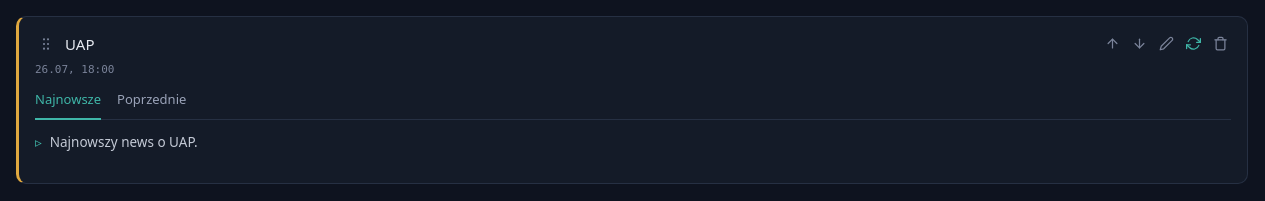
Scenario: BoxCard › pokazuje podpowiedź, gdy brak danych w zakładce
The width and height of the screenshot is (1265, 201).
Click the tab "Poprzednie" at (152, 105), box [117,90,186,120]
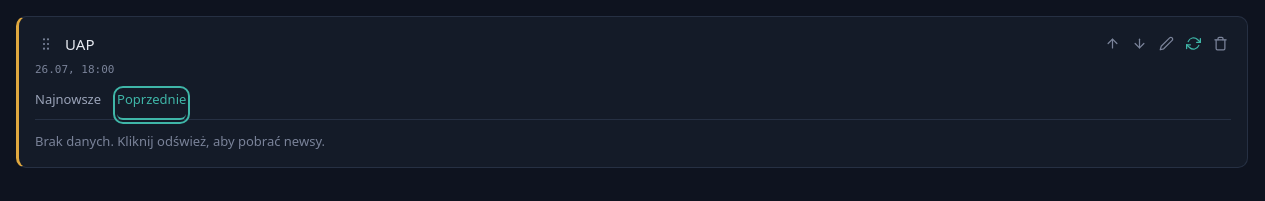
Check: the text "Brak danych. Kliknij odśwież, aby pobrać newsy." is shown, box [35,132,325,150]
